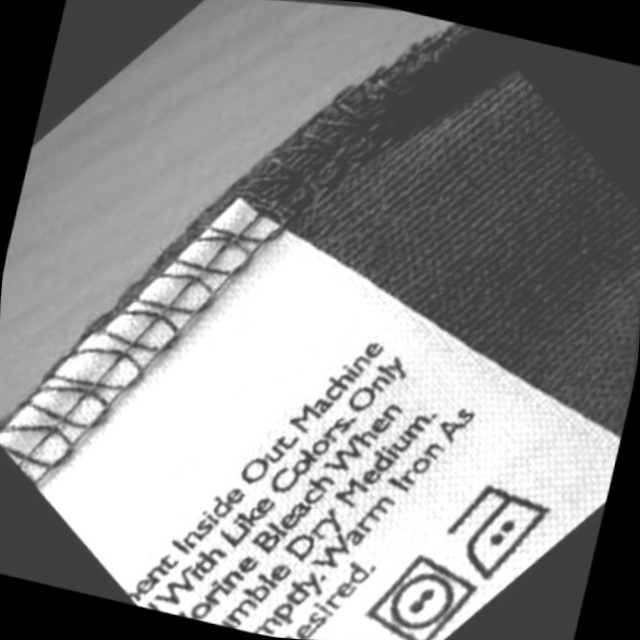iron_medium: (425, 459, 579, 604)
tumble_dry_medium: (348, 530, 501, 640)
